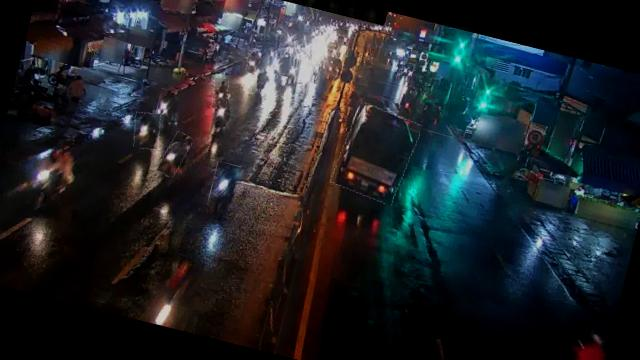Bike: (24, 138, 82, 221), (208, 162, 242, 212), (159, 131, 192, 180), (130, 109, 164, 152), (43, 61, 86, 93), (153, 88, 184, 127), (209, 97, 234, 134), (208, 76, 232, 110), (251, 70, 274, 98), (244, 50, 261, 72)
Truck: (331, 102, 422, 206)
